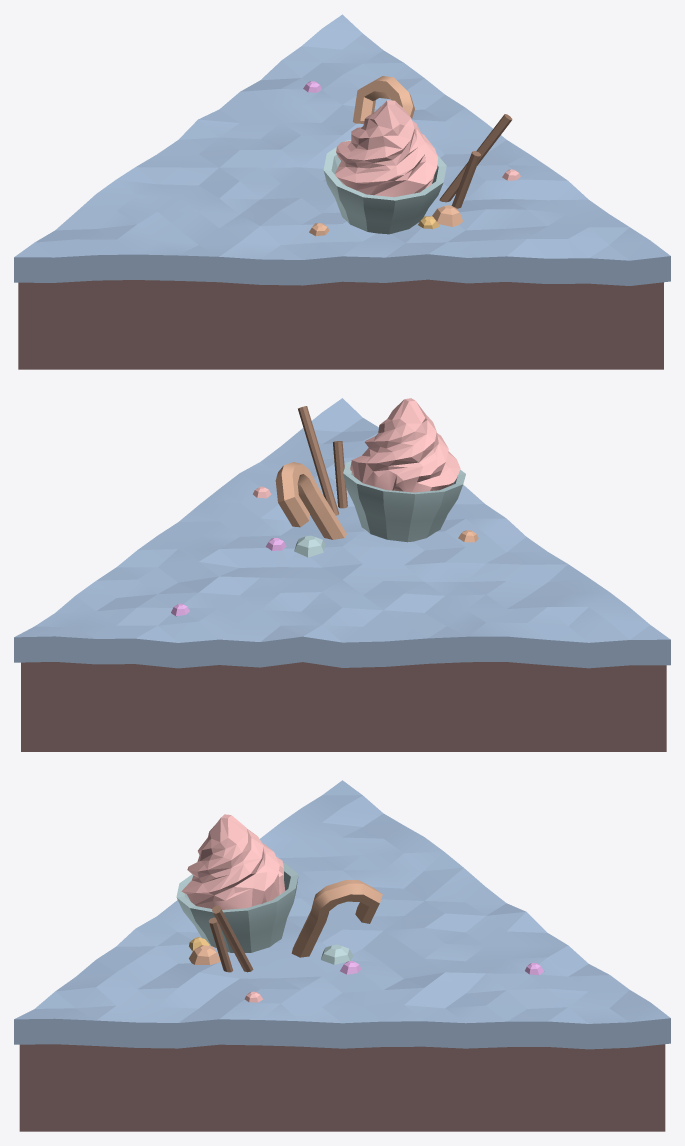
The model's file is TILE_06_03_Candy.fbx.
3 views of the same model, one above another, from view 1: azimuth 30°, elevation 25°; view 2: azimuth 150°, elevation 25°; view 3: azimuth 270°, elevation 25° (orthographic).
Parts seen in each view (by area): view 1: TILESURFACE12, TILE16, pCone5, pCylinder25, pTorus2, pCylinder27, pCylinder26; view 2: TILESURFACE12, TILE16, pCone5, pCylinder25, pTorus2, pCylinder27, pCylinder26; view 3: TILESURFACE12, TILE16, pCone5, pCylinder25, pTorus2, pCylinder27, pCylinder26.
Part boxes in pixels (bbox=[...]): TILESURFACE12: bbox=[14, 14, 670, 285]; TILE16: bbox=[18, 279, 663, 369]; pCone5: bbox=[334, 100, 437, 197]; pCylinder25: bbox=[323, 140, 446, 234]; pTorus2: bbox=[352, 76, 414, 123]; pCylinder27: bbox=[439, 114, 512, 202]; pCylinder26: bbox=[451, 151, 480, 208]; TILESURFACE12: bbox=[14, 398, 670, 668]; TILE16: bbox=[21, 662, 666, 751]; pCone5: bbox=[350, 398, 460, 492]; pCylinder25: bbox=[343, 461, 465, 542]; pTorus2: bbox=[275, 462, 346, 539]; pCylinder27: bbox=[298, 406, 339, 515]; pCylinder26: bbox=[333, 441, 347, 508]; TILESURFACE12: bbox=[14, 780, 670, 1049]; TILE16: bbox=[19, 1044, 665, 1131]; pCone5: bbox=[181, 814, 285, 909]; pCylinder25: bbox=[176, 863, 298, 952]; pTorus2: bbox=[291, 880, 382, 957]; pCylinder27: bbox=[212, 905, 253, 972]; pCylinder26: bbox=[208, 917, 233, 972].
Bounding box in the file's own units: 153 × 69.08 × 176.
